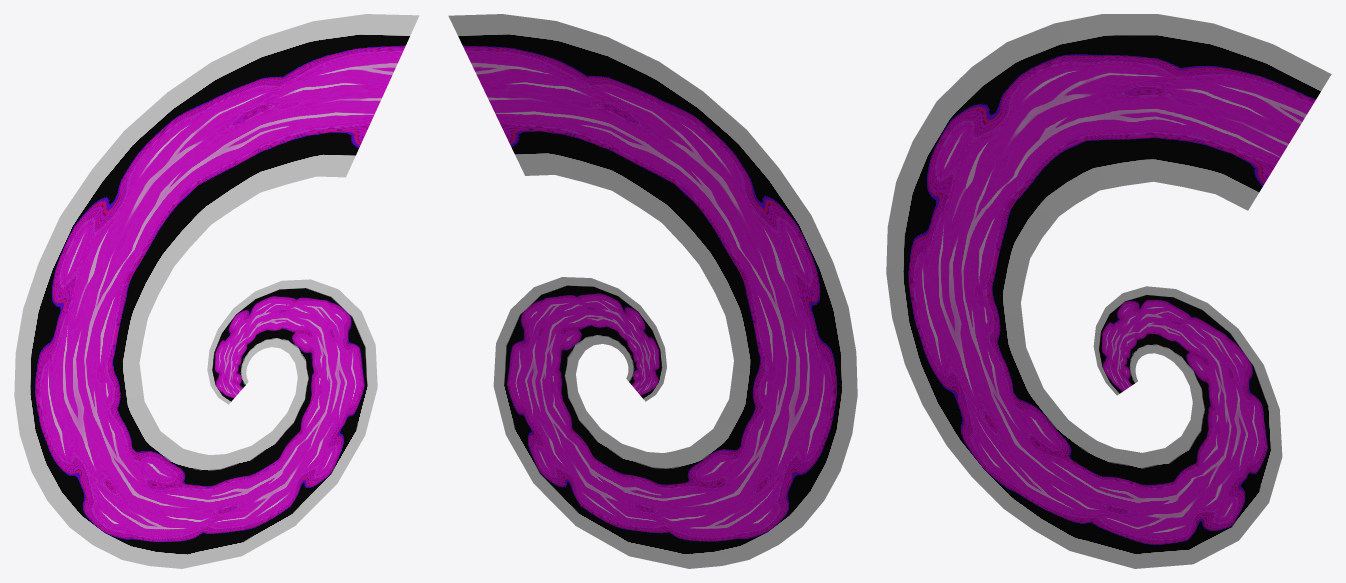
The model's file is Magic Spiral Effect.FBX.
3 renders of one model, left to right at view 1: azimuth 30°, elevation 25°; view 2: azimuth 150°, elevation 25°; view 3: azimuth 330°, elevation 25°, orthographic. The views are drawn at different scales.
Parts seen in each view (by area): view 1: Plane003; view 2: Plane003; view 3: Plane003.
Boxes of the visible parts, x1,y1,x2,y2 form: Plane003: (14, 14, 419, 568); Plane003: (448, 14, 857, 568); Plane003: (886, 14, 1331, 568).
Size of the model in its own units: 380 by 5.23 by 461.
